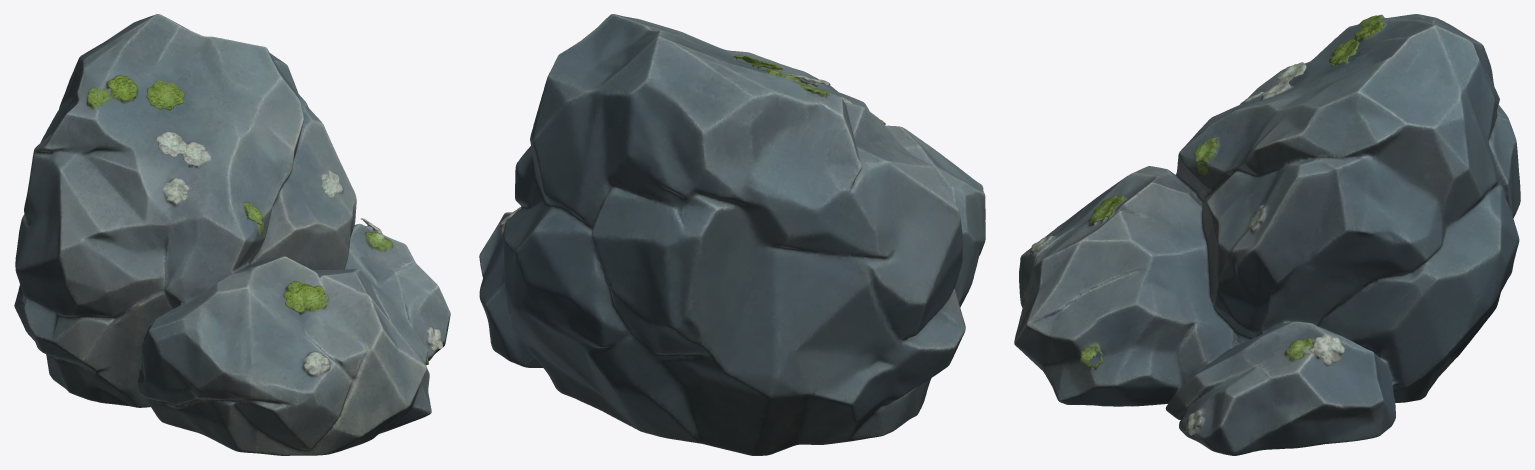
The model's file is mountain-rock-cluster.glb.
3 renders of one model, left to right at view 1: azimuth 30°, elevation 25°; view 2: azimuth 150°, elevation 25°; view 3: azimuth 270°, elevation 25°, orthographic. The views are drawn at different scales.
Bounding box in the file's own units: 0.9233 × 0.7165 × 1.
1 material, 1 textured.
